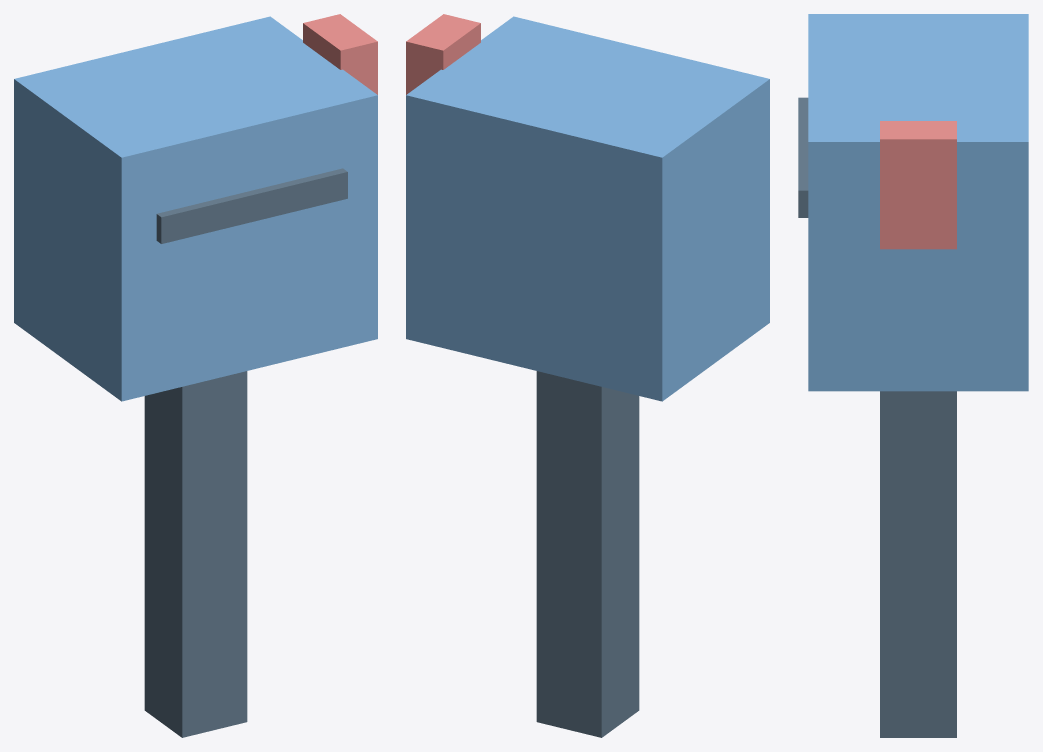
The model's file is 17_mailbox.glb.
The picture shows the model from 3 angles, left to right: view 1: azimuth 30°, elevation 25°; view 2: azimuth 150°, elevation 25°; view 3: azimuth 270°, elevation 25°; orthographic projection. The views are drawn at different scales.
Parts seen in each view (by area): view 1: 17_mailbox; view 2: 17_mailbox; view 3: 17_mailbox.
Part boxes in pixels (<box>): 17_mailbox: <box>14,14,377,737</box>; 17_mailbox: <box>406,14,769,737</box>; 17_mailbox: <box>798,14,1028,737</box>.
Size of the model in its own units: 0.625 by 1.33 by 0.418.
